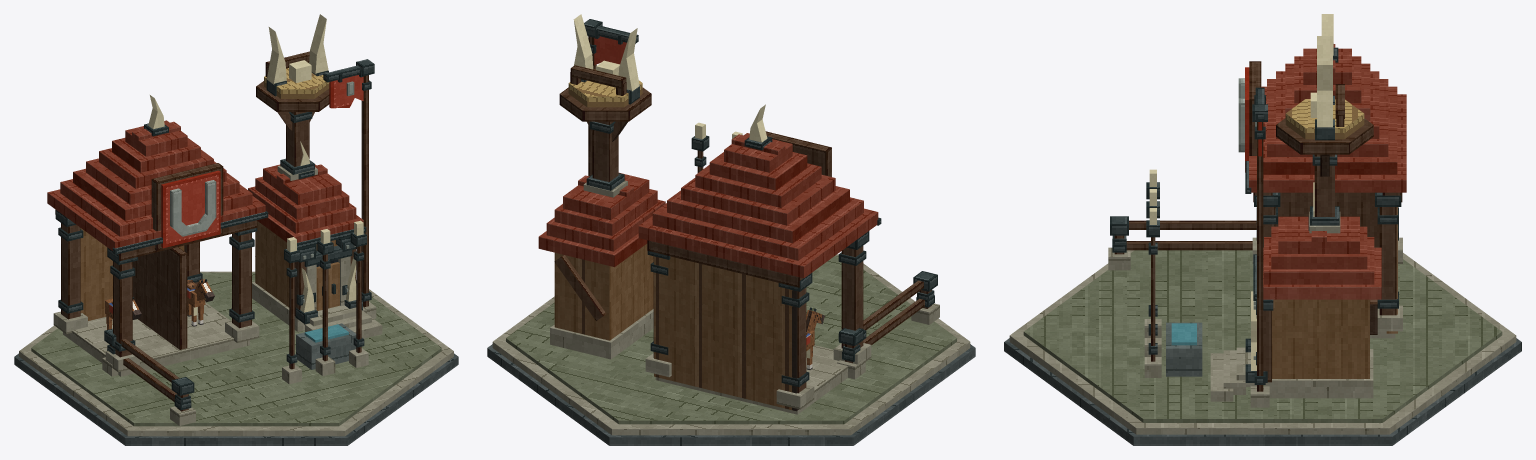
The model's file is orc_cavalry_mastery_hex_v1.glb.
The picture shows the model from 3 angles, left to right: view 1: azimuth 30°, elevation 25°; view 2: azimuth 150°, elevation 25°; view 3: azimuth 270°, elevation 25°; orthographic projection. The views are drawn at different scales.
Parts seen in each view (by area): view 1: Orc_Cavalry_Mastery_Hex_V1_Foundation, Orc_Cavalry_Mastery_Hex_V1_Hall, Orc_Cavalry_Mastery_Hex_V1_Roofs, Orc_Cavalry_Mastery_Hex_V1_Faction, Orc_Cavalry_Mastery_Hex_V1_Focus, Orc_Cavalry_Mastery_Hex_V1_Training, Orc_Cavalry_Mastery_Hex_V1_Details, Orc_Cavalry_Mastery_Hex_V1_Courtyard; view 2: Orc_Cavalry_Mastery_Hex_V1_Foundation, Orc_Cavalry_Mastery_Hex_V1_Hall, Orc_Cavalry_Mastery_Hex_V1_Roofs, Orc_Cavalry_Mastery_Hex_V1_Focus, Orc_Cavalry_Mastery_Hex_V1_Details, Orc_Cavalry_Mastery_Hex_V1_Courtyard, Orc_Cavalry_Mastery_Hex_V1_Faction, Orc_Cavalry_Mastery_Hex_V1_Training; view 3: Orc_Cavalry_Mastery_Hex_V1_Foundation, Orc_Cavalry_Mastery_Hex_V1_Roofs, Orc_Cavalry_Mastery_Hex_V1_Hall, Orc_Cavalry_Mastery_Hex_V1_Focus, Orc_Cavalry_Mastery_Hex_V1_Courtyard, Orc_Cavalry_Mastery_Hex_V1_Faction, Orc_Cavalry_Mastery_Hex_V1_Training, Orc_Cavalry_Mastery_Hex_V1_Details.
Boxes of the visible parts, left/top/right/bottom form: Orc_Cavalry_Mastery_Hex_V1_Foundation: left=14, top=271, right=458, bottom=445; Orc_Cavalry_Mastery_Hex_V1_Hall: left=53, top=209, right=362, bottom=376; Orc_Cavalry_Mastery_Hex_V1_Roofs: left=47, top=95, right=366, bottom=254; Orc_Cavalry_Mastery_Hex_V1_Faction: left=151, top=59, right=376, bottom=318; Orc_Cavalry_Mastery_Hex_V1_Focus: left=105, top=14, right=329, bottom=329; Orc_Cavalry_Mastery_Hex_V1_Training: left=282, top=220, right=368, bottom=384; Orc_Cavalry_Mastery_Hex_V1_Details: left=58, top=80, right=371, bottom=410; Orc_Cavalry_Mastery_Hex_V1_Courtyard: left=102, top=305, right=382, bottom=425; Orc_Cavalry_Mastery_Hex_V1_Foundation: left=487, top=254, right=975, bottom=445; Orc_Cavalry_Mastery_Hex_V1_Hall: left=550, top=231, right=871, bottom=414; Orc_Cavalry_Mastery_Hex_V1_Roofs: left=538, top=104, right=881, bottom=278; Orc_Cavalry_Mastery_Hex_V1_Focus: left=559, top=14, right=824, bottom=369; Orc_Cavalry_Mastery_Hex_V1_Details: left=554, top=44, right=934, bottom=386; Orc_Cavalry_Mastery_Hex_V1_Courtyard: left=837, top=271, right=939, bottom=379; Orc_Cavalry_Mastery_Hex_V1_Faction: left=584, top=19, right=831, bottom=176; Orc_Cavalry_Mastery_Hex_V1_Training: left=691, top=122, right=742, bottom=172; Orc_Cavalry_Mastery_Hex_V1_Foundation: left=1004, top=250, right=1521, bottom=445; Orc_Cavalry_Mastery_Hex_V1_Roofs: left=1245, top=14, right=1406, bottom=300; Orc_Cavalry_Mastery_Hex_V1_Hall: left=1245, top=192, right=1402, bottom=398; Orc_Cavalry_Mastery_Hex_V1_Focus: left=1276, top=36, right=1373, bottom=233; Orc_Cavalry_Mastery_Hex_V1_Courtyard: left=1108, top=216, right=1256, bottom=401; Orc_Cavalry_Mastery_Hex_V1_Faction: left=1238, top=61, right=1269, bottom=407; Orc_Cavalry_Mastery_Hex_V1_Training: left=1144, top=169, right=1202, bottom=377; Orc_Cavalry_Mastery_Hex_V1_Details: left=1112, top=126, right=1398, bottom=384.
Size of the model in its own units: 1.59 by 1.38 by 1.84.
Materials: 1 (1 with a texture image).
